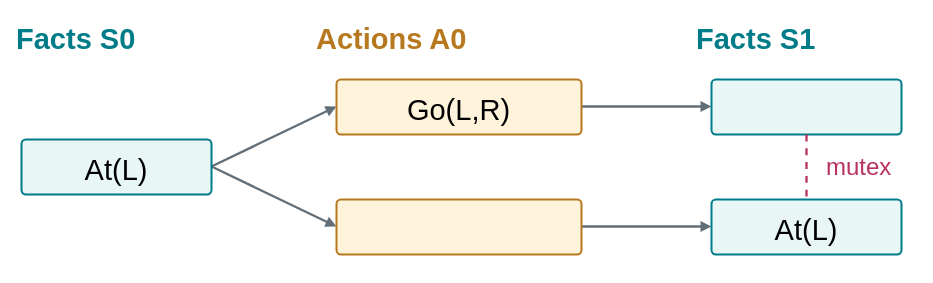
Image size: 933x283. Some labels were removed from this diagram. Here are the shapes that lost their labels. From the top down, the box of each, then its label:
(710, 78, 902, 135): At(R)
(335, 198, 582, 255): No-op: keep At(L)
